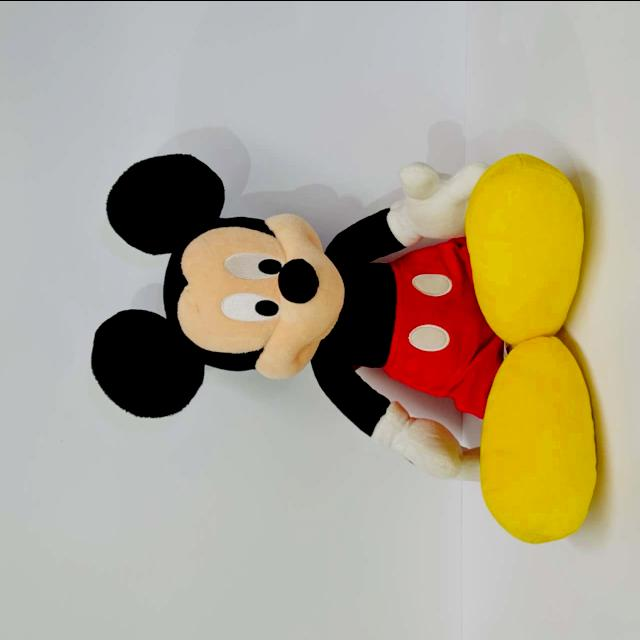mickey: (92, 154, 582, 497)
